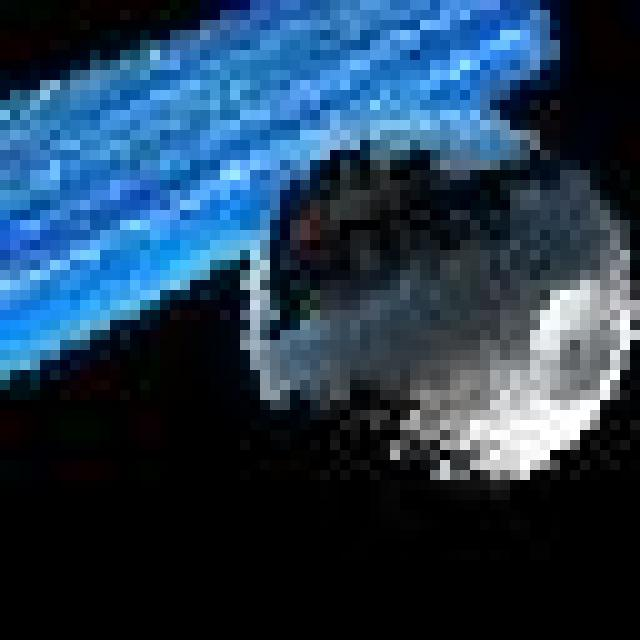Death Star: (236, 114, 638, 496)
